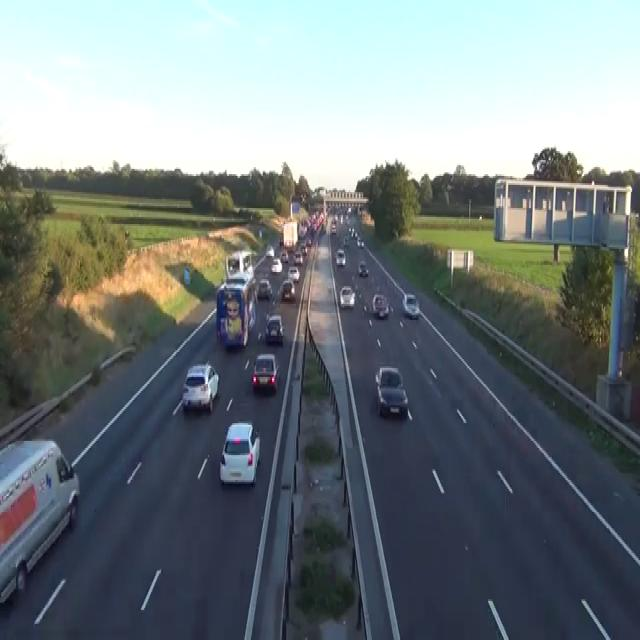Car: (0, 438, 80, 604), (219, 422, 260, 486), (181, 361, 219, 412), (375, 366, 408, 418), (251, 352, 279, 393), (264, 313, 284, 343), (401, 292, 420, 318), (372, 292, 390, 318), (339, 284, 355, 308), (279, 279, 295, 301), (257, 277, 272, 299), (287, 265, 299, 283), (227, 256, 239, 274), (335, 247, 345, 267), (270, 258, 282, 274), (358, 260, 368, 276), (293, 251, 303, 265), (280, 249, 288, 263), (266, 245, 274, 258), (356, 238, 364, 247), (300, 244, 307, 254), (330, 222, 336, 233), (343, 235, 348, 245), (306, 238, 311, 246), (279, 237, 283, 246), (347, 206, 351, 215), (258, 230, 262, 238)
Truck: (215, 272, 257, 348), (225, 249, 253, 281), (282, 218, 298, 250)
